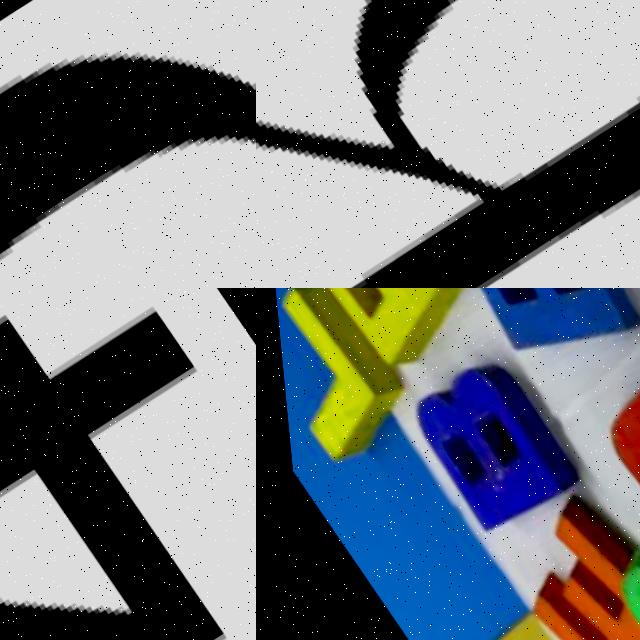A: (564, 337, 640, 583)
B: (392, 357, 595, 564)
E: (490, 508, 640, 640)
K: (256, 0, 640, 288)
L: (269, 288, 420, 479)
O: (0, 50, 256, 288)
P: (423, 288, 640, 393)
R: (271, 288, 488, 382)
